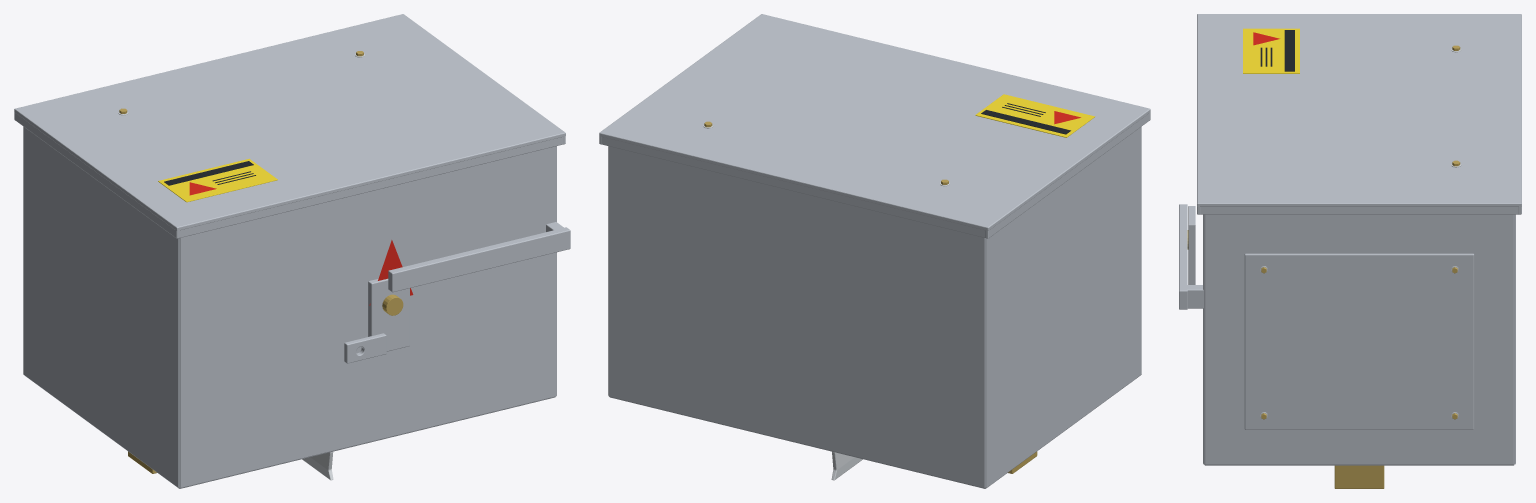
The model's file is tap-off-single-top.glb.
3 views of the same model, side by side, from view 1: azimuth 30°, elevation 25°; view 2: azimuth 150°, elevation 25°; view 3: azimuth 270°, elevation 25° (orthographic).
Parts seen in each view (by area): view 1: Side sheet, Lid sheet, End sheet, Long lever, Lid long return, Pivot plate, Yellow danger label, Lid end return, Lock tab; view 2: Side sheet.001, Lid sheet, End sheet, Lid long return.001, Yellow danger label, Lid end return; view 3: Lid sheet, Gland plate, End sheet.001, Lid end return.001, Yellow danger label, Earth return.001, Long lever, Pivot plate, Side sheet.001, Side sheet, Black warning header, Lever return.
Part boxes in pixels (left/top/right/bottom): Side sheet: left=179, top=146, right=556, bottom=488; Lid sheet: left=14, top=14, right=565, bottom=230; End sheet: left=23, top=126, right=179, bottom=487; Long lever: left=388, top=227, right=570, bottom=292; Lid long return: left=175, top=137, right=563, bottom=238; Pivot plate: left=368, top=278, right=409, bottom=351; Yellow danger label: left=158, top=158, right=277, bottom=202; Lid end return: left=15, top=113, right=179, bottom=238; Lock tab: left=344, top=333, right=386, bottom=363; Side sheet.001: left=608, top=146, right=985, bottom=488; Lid sheet: left=599, top=14, right=1150, bottom=230; End sheet: left=985, top=127, right=1141, bottom=487; Lid long return.001: left=601, top=137, right=989, bottom=238; Yellow danger label: left=975, top=94, right=1095, bottom=137; Lid end return: left=985, top=113, right=1149, bottom=238; Lid sheet: left=1197, top=14, right=1521, bottom=206; Gland plate: left=1244, top=253, right=1474, bottom=429; End sheet.001: left=1204, top=214, right=1514, bottom=464; Lid end return.001: left=1197, top=207, right=1521, bottom=214; Yellow danger label: left=1243, top=28, right=1299, bottom=73; Earth return.001: left=1334, top=465, right=1384, bottom=488; Long lever: left=1179, top=204, right=1187, bottom=309; Pivot plate: left=1188, top=206, right=1195, bottom=284; Side sheet.001: left=1514, top=214, right=1515, bottom=464; Side sheet: left=1203, top=214, right=1204, bottom=464; Black warning header: left=1284, top=30, right=1294, bottom=71; Lever return: left=1180, top=285, right=1204, bottom=308.
Size of the model in its own units: 0.362 by 0.2958 by 0.2765.
